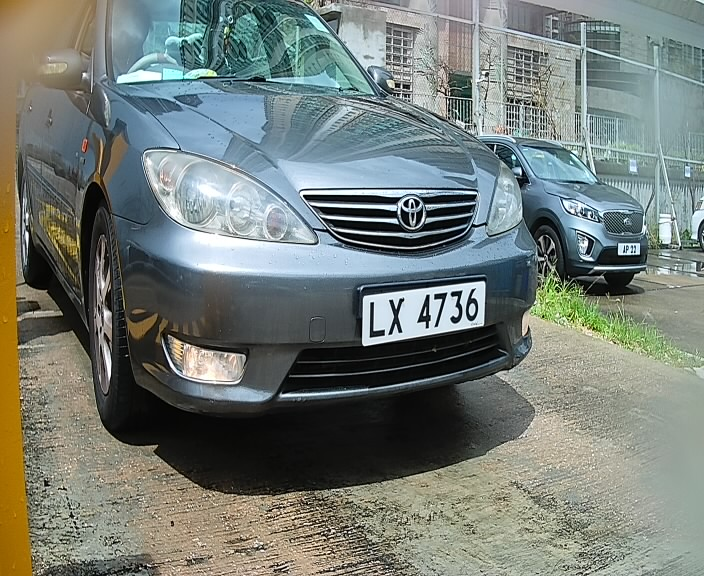Car: (51, 1, 584, 470)
License Plate: (352, 277, 492, 351)
